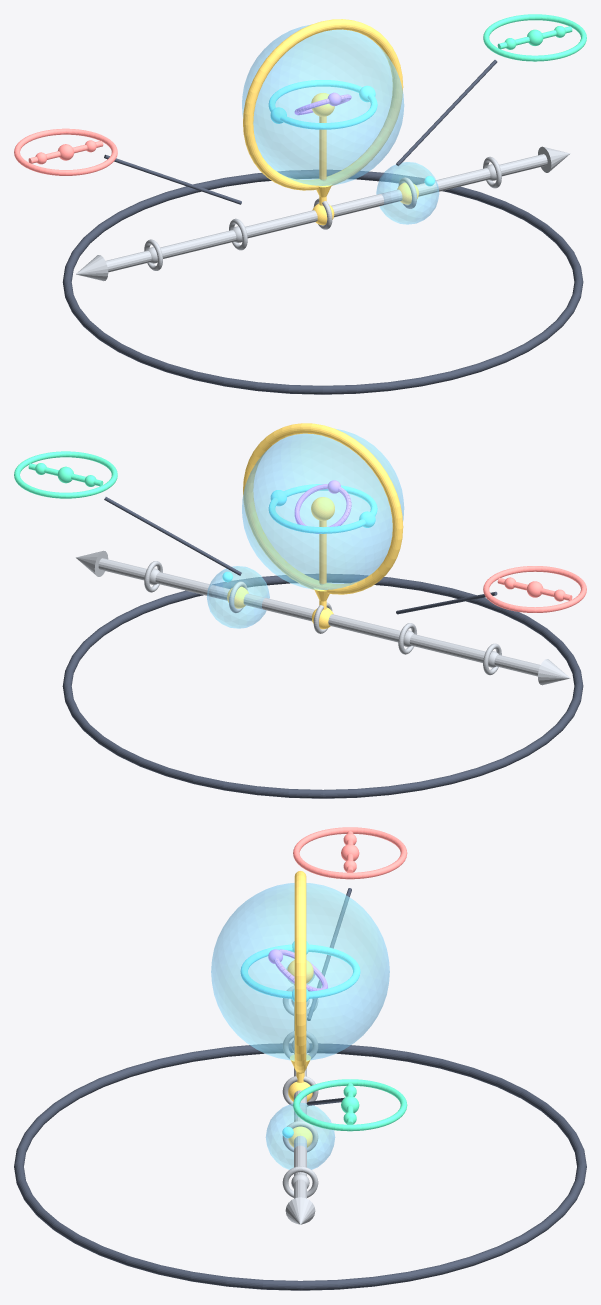
File: hyperreal_telescope.glb
3 views of the same model, one above another, from view 1: azimuth 30°, elevation 25°; view 2: azimuth 150°, elevation 25°; view 3: azimuth 270°, elevation 25° (orthographic). The views are drawn at different scales.
Parts seen in each view (by area): view 1: Mesh_HaloGlass, Mesh_ObsidianSlate, Mesh_StandardSilver, Mesh_HyperGold, Mesh_GalaxyEmerald, Mesh_UnlimitedCoral, Mesh_InfinitesimalCyan; view 2: Mesh_HaloGlass, Mesh_ObsidianSlate, Mesh_StandardSilver, Mesh_HyperGold, Mesh_GalaxyEmerald, Mesh_UnlimitedCoral, Mesh_InfinitesimalCyan, Mesh_UltrafilterViolet; view 3: Mesh_HaloGlass, Mesh_ObsidianSlate, Mesh_StandardSilver, Mesh_HyperGold, Mesh_UnlimitedCoral, Mesh_GalaxyEmerald, Mesh_InfinitesimalCyan, Mesh_UltrafilterViolet.
Boxes of the visible parts, box(x1,y1,x2,y2) form: Mesh_HaloGlass: box(242, 24, 439, 224); Mesh_ObsidianSlate: box(62, 60, 583, 394); Mesh_StandardSilver: box(76, 146, 570, 281); Mesh_HyperGold: box(243, 19, 418, 225); Mesh_GalaxyEmerald: box(483, 14, 586, 61); Mesh_UnlimitedCoral: box(14, 128, 117, 175); Mesh_InfinitesimalCyan: box(268, 80, 434, 186); Mesh_HaloGlass: box(207, 429, 404, 628); Mesh_ObsidianSlate: box(62, 497, 583, 798); Mesh_StandardSilver: box(76, 550, 570, 685); Mesh_HyperGold: box(227, 423, 403, 629); Mesh_GalaxyEmerald: box(14, 451, 117, 498); Mesh_UnlimitedCoral: box(483, 566, 586, 612); Mesh_InfinitesimalCyan: box(222, 484, 377, 582); Mesh_UltrafilterViolet: box(294, 480, 351, 533); Mesh_HaloGlass: box(211, 883, 389, 1169); Mesh_ObsidianSlate: box(14, 888, 586, 1290); Mesh_StandardSilver: box(282, 965, 318, 1224); Mesh_HyperGold: box(287, 871, 313, 1147); Mesh_UnlimitedCoral: box(293, 827, 407, 879); Mesh_GalaxyEmerald: box(293, 1079, 407, 1131); Mesh_InfinitesimalCyan: box(240, 941, 360, 1138); Mesh_UltrafilterViolet: box(268, 949, 327, 991).
Size of the model in its own units: 0.858 by 0.388 by 0.692.
